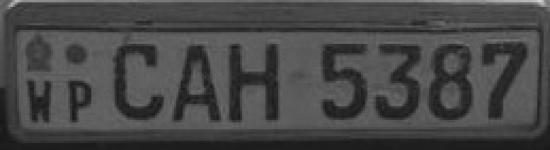3: (372, 34, 426, 123)
5: (316, 35, 372, 122)
7: (481, 30, 532, 124)
8: (426, 32, 480, 125)
A: (226, 36, 285, 128), (169, 38, 225, 128)
C: (106, 35, 168, 126)
P: (65, 75, 99, 123)
W: (22, 73, 62, 127)
